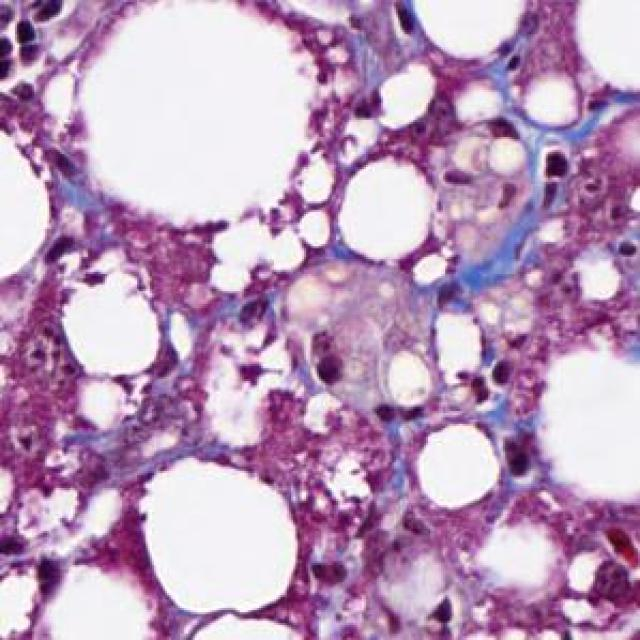inflammation: (467, 90, 584, 186)
